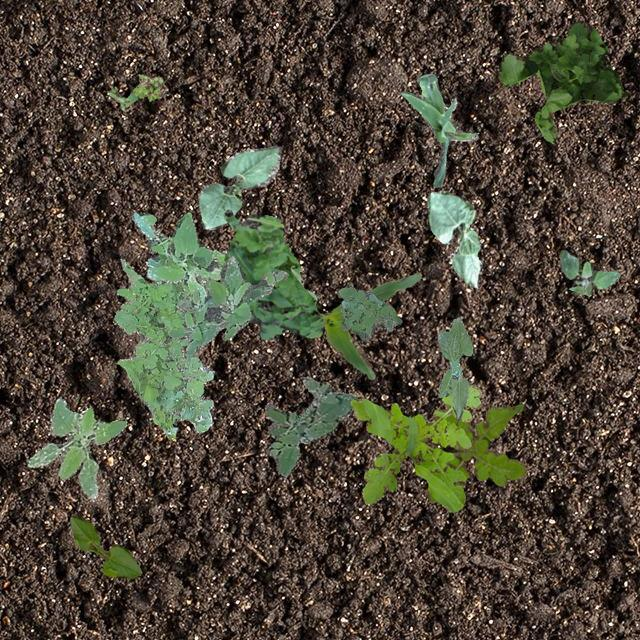crop: (317, 272, 421, 378), (400, 72, 478, 186), (198, 144, 280, 228), (426, 190, 482, 286), (70, 514, 140, 578), (436, 316, 472, 418)
weed: (114, 257, 212, 438), (350, 384, 480, 512), (496, 19, 626, 142), (222, 208, 322, 339), (166, 254, 288, 358), (26, 398, 126, 500), (424, 403, 526, 502), (264, 376, 356, 476), (130, 210, 226, 304), (336, 284, 400, 340), (558, 250, 618, 294), (108, 74, 162, 110)
